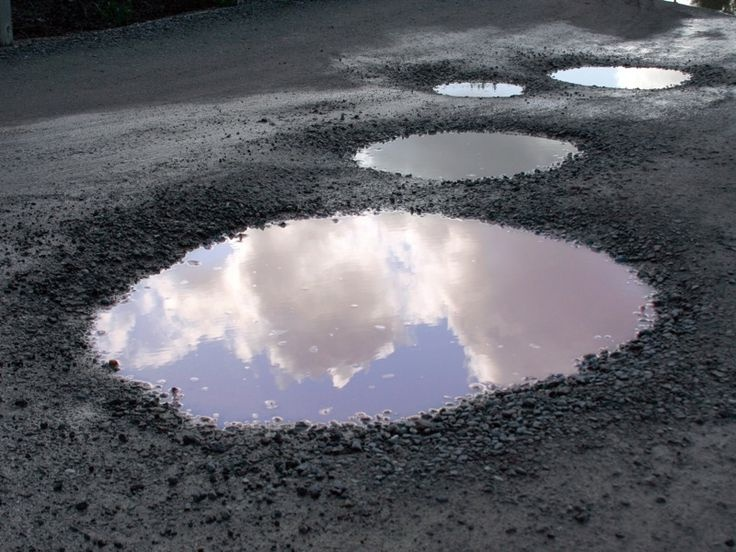pothole: (55, 206, 684, 425), (350, 126, 582, 179), (538, 61, 702, 93), (423, 72, 524, 99)
